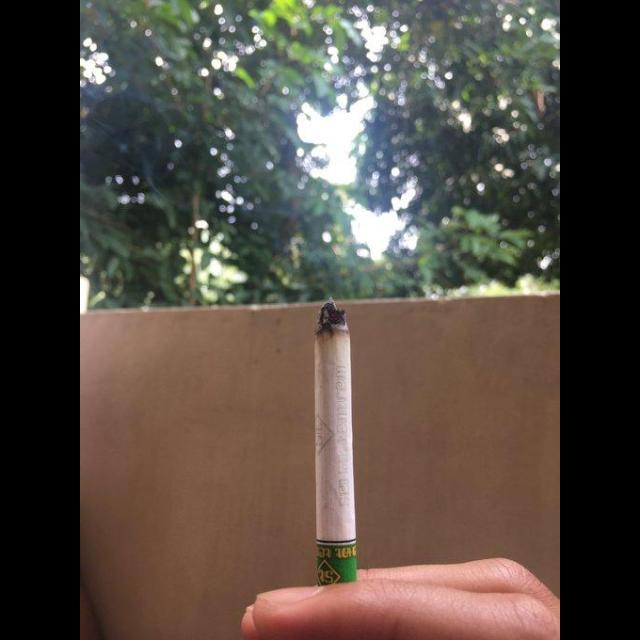rokok: (304, 290, 374, 586)
